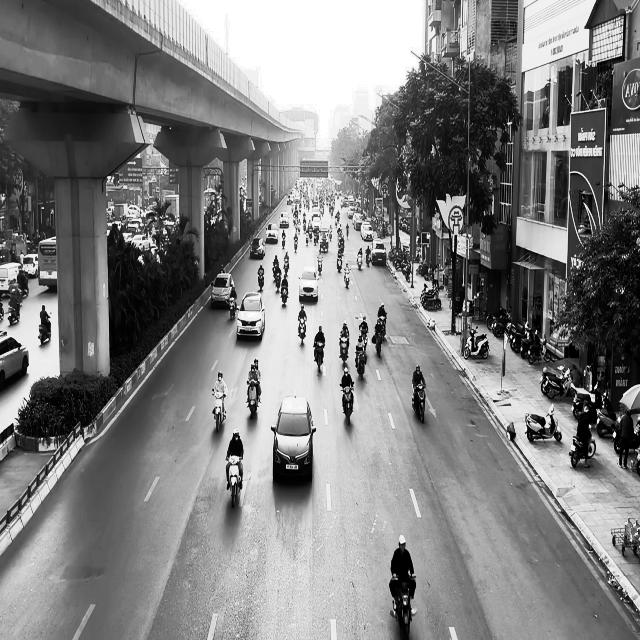bus: (38, 237, 57, 290)
car: (271, 392, 316, 482), (1, 330, 30, 388), (237, 290, 266, 340), (211, 272, 236, 308), (299, 265, 321, 301), (371, 239, 387, 266), (250, 236, 266, 258), (266, 223, 279, 242)
motorbike: (389, 574, 417, 638), (525, 402, 562, 442), (569, 430, 596, 468), (226, 455, 243, 507), (464, 325, 489, 359), (212, 389, 228, 432), (340, 382, 354, 425), (412, 381, 426, 423), (247, 379, 260, 418), (38, 311, 52, 344), (355, 344, 367, 380), (314, 342, 325, 374), (374, 327, 385, 358), (340, 335, 350, 367), (8, 300, 20, 324), (298, 316, 306, 346), (274, 268, 282, 293), (230, 295, 238, 320), (344, 267, 351, 288), (258, 271, 265, 291), (317, 255, 323, 274)
